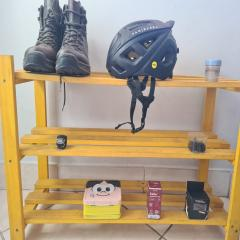bota1: (22, 0, 90, 79)
capacete: (106, 18, 180, 78)
cx-bike: (186, 180, 210, 221)
cx-ferro: (148, 181, 162, 219)
cx-magali: (84, 178, 122, 219)
cx-xuxa: (188, 132, 207, 154)
luz: (55, 134, 68, 152)
pote: (204, 59, 221, 83)
